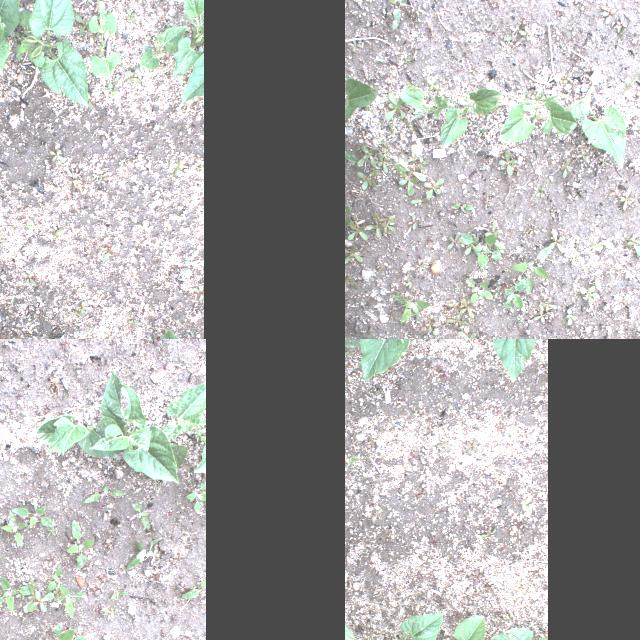crop: (33, 368, 181, 488), (16, 0, 88, 107), (564, 82, 626, 168), (154, 382, 206, 476), (500, 84, 578, 142), (441, 89, 503, 149), (352, 339, 440, 380), (172, 0, 204, 104), (89, 0, 121, 77), (492, 339, 540, 386), (140, 26, 188, 70), (400, 85, 452, 122), (416, 614, 486, 640), (381, 612, 445, 640), (0, 0, 19, 76), (345, 77, 377, 118), (345, 608, 386, 640), (488, 627, 547, 640), (194, 448, 206, 476)
weed: (512, 247, 552, 295), (64, 516, 96, 572), (122, 536, 164, 574), (394, 153, 430, 197), (460, 232, 502, 268), (49, 584, 89, 620), (0, 575, 35, 613), (23, 623, 91, 640), (9, 505, 55, 529), (392, 296, 430, 324), (0, 509, 26, 548), (384, 0, 414, 29), (86, 483, 128, 503), (27, 588, 57, 616), (187, 480, 206, 516), (466, 278, 492, 304), (180, 578, 206, 604), (502, 26, 524, 54), (505, 279, 525, 309), (130, 502, 150, 532), (46, 564, 66, 594), (384, 92, 404, 120), (345, 452, 369, 475), (500, 152, 522, 176), (356, 168, 380, 190), (366, 214, 388, 238), (456, 236, 482, 256), (356, 144, 378, 166), (484, 221, 502, 247), (347, 220, 368, 240), (75, 14, 95, 34), (424, 178, 444, 198), (618, 188, 636, 210), (550, 229, 566, 253), (623, 72, 639, 95), (99, 244, 119, 262), (600, 5, 618, 25), (580, 286, 600, 304), (345, 137, 358, 163), (481, 527, 499, 545), (464, 438, 480, 457), (103, 82, 121, 98), (446, 315, 470, 327), (468, 570, 486, 586), (433, 364, 451, 380), (460, 299, 474, 319), (377, 138, 391, 158), (410, 410, 430, 424), (414, 483, 428, 503), (628, 232, 640, 255), (168, 160, 184, 177), (75, 300, 92, 316), (345, 246, 361, 263), (434, 439, 450, 456), (126, 68, 142, 84), (534, 307, 550, 323), (520, 498, 536, 514), (382, 216, 396, 234), (447, 232, 461, 250), (562, 158, 574, 178), (534, 182, 546, 202), (372, 509, 386, 526), (20, 272, 36, 286), (520, 26, 534, 42), (424, 78, 440, 92), (406, 449, 420, 465), (377, 152, 387, 174), (83, 92, 95, 110), (426, 534, 438, 552), (584, 242, 604, 252), (526, 454, 536, 474), (48, 150, 64, 162), (398, 54, 414, 66), (408, 215, 420, 231), (450, 204, 474, 212), (566, 309, 578, 325), (424, 316, 436, 332), (516, 581, 528, 597), (51, 227, 64, 241), (411, 197, 431, 206), (192, 287, 204, 301), (348, 40, 362, 52), (576, 148, 588, 162), (423, 328, 438, 339), (26, 218, 36, 234), (128, 319, 144, 329), (458, 331, 478, 339), (617, 16, 627, 32), (540, 300, 556, 310), (196, 428, 206, 444), (345, 275, 356, 289), (126, 8, 136, 22), (416, 258, 426, 272), (345, 197, 350, 225), (490, 406, 504, 416), (462, 470, 476, 480), (491, 286, 502, 298), (196, 158, 204, 174), (183, 258, 190, 276), (483, 196, 492, 210), (404, 278, 414, 290), (552, 29, 562, 41), (499, 144, 511, 154), (448, 302, 460, 312), (504, 427, 514, 439), (459, 402, 471, 412), (478, 478, 488, 489), (508, 392, 518, 402), (472, 382, 482, 392), (95, 25, 102, 39), (70, 311, 84, 317), (98, 174, 108, 182), (600, 158, 610, 166), (496, 246, 506, 254), (528, 226, 538, 234), (362, 546, 370, 556), (345, 349, 355, 357), (572, 252, 578, 264), (478, 128, 486, 136), (454, 285, 460, 293), (10, 294, 14, 304), (373, 59, 383, 63), (466, 159, 472, 165), (191, 192, 195, 200), (118, 160, 124, 164), (192, 332, 194, 338)
